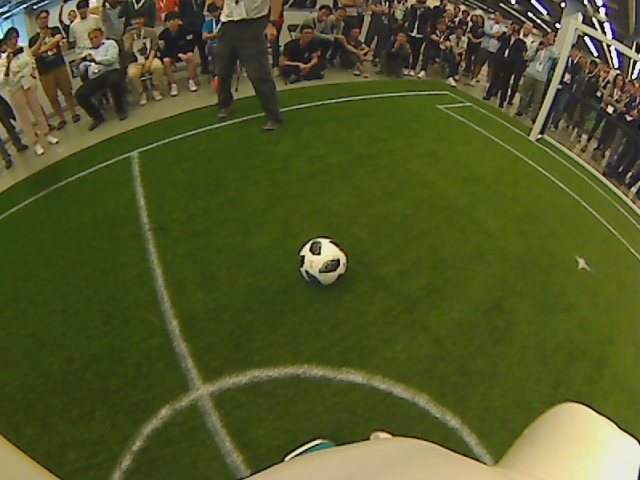ball: (296, 235, 348, 285)
